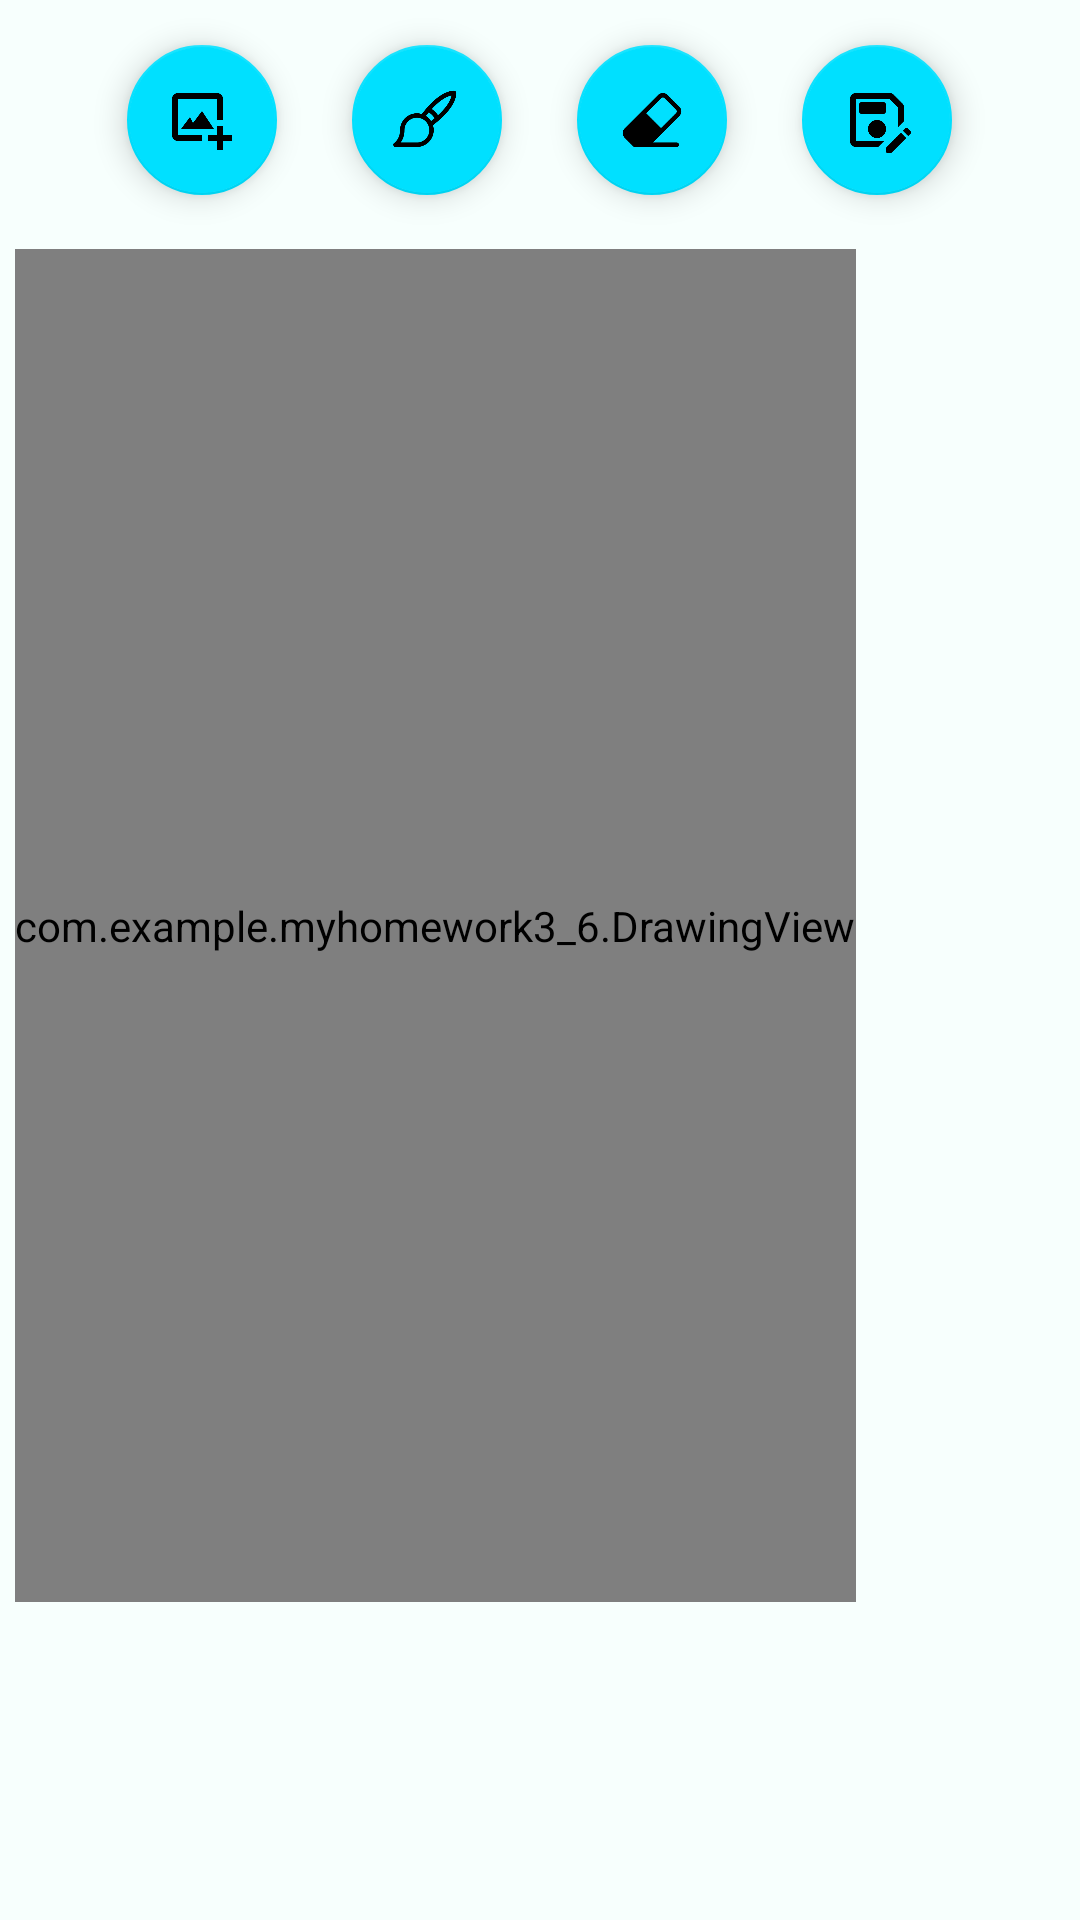

Locate icon controls on the screen. Image size 1080px×1920px, boxes as region(x1, y1, x2, y2).
add: region(127, 45, 277, 195)
brush: region(352, 45, 502, 195)
erase: region(577, 45, 727, 195)
save: region(802, 45, 952, 195)
